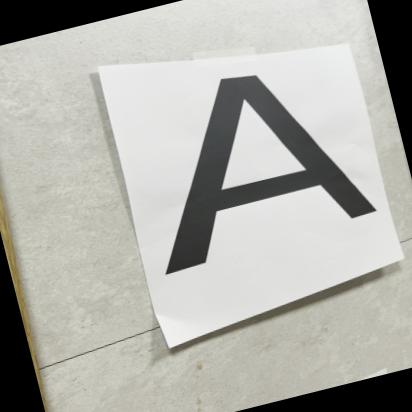seat: (118, 41, 382, 289)
